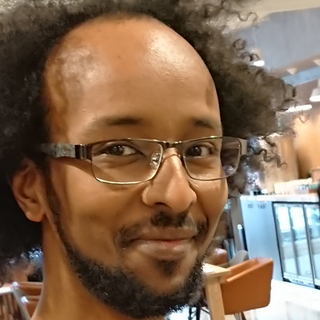eye: (97, 139, 139, 163), (179, 140, 215, 166)
